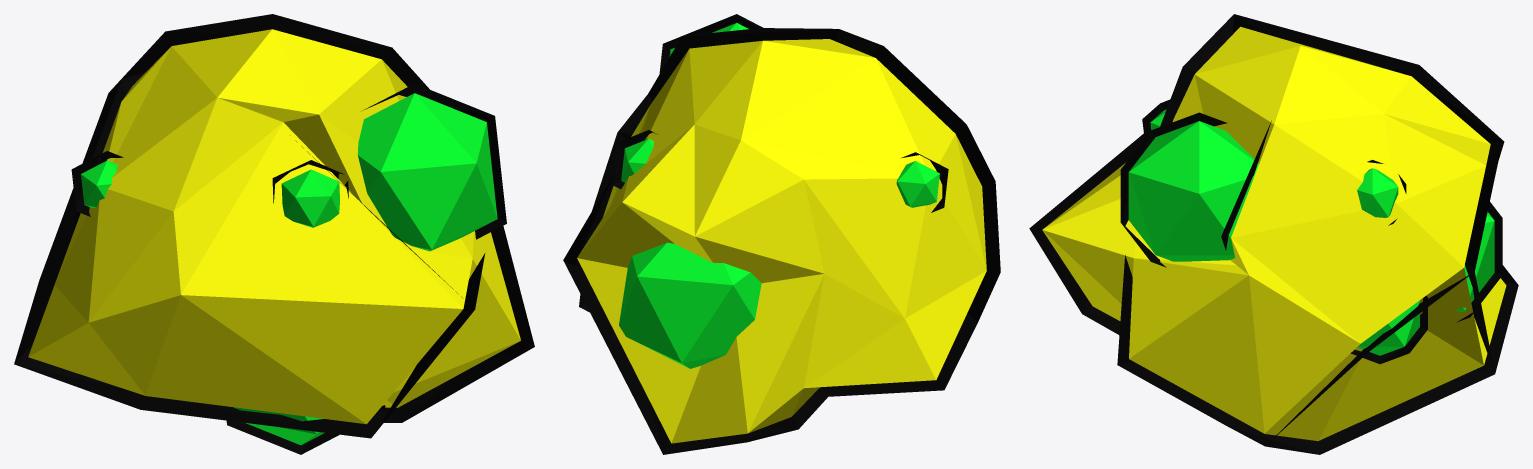
The model's file is uran.fbx.
3 views of the same model, side by side, from view 1: azimuth 30°, elevation 25°; view 2: azimuth 150°, elevation 25°; view 3: azimuth 270°, elevation 25° (orthographic). The views are drawn at different scales.
Visible parts, largest first — view 1: Icosphere, Icosphere.002, Icosphere.003, Icosphere.004; view 2: Icosphere, Icosphere.003, Icosphere.002, Icosphere.004; view 3: Icosphere, Icosphere.003, Icosphere.002, Icosphere.004.
Boxes of the visible parts, x1,y1,x2,y2 form: Icosphere: (28, 29, 520, 424); Icosphere.002: (81, 93, 497, 445); Icosphere.003: (14, 14, 534, 438); Icosphere.004: (71, 83, 506, 454); Icosphere: (577, 39, 986, 443); Icosphere.003: (563, 28, 1000, 454); Icosphere.002: (619, 23, 939, 368); Icosphere.004: (579, 14, 948, 342); Icosphere: (1042, 26, 1506, 440); Icosphere.003: (1029, 14, 1518, 454); Icosphere.002: (1128, 109, 1494, 355); Icosphere.004: (1120, 99, 1502, 364).
Bounding box in the file's own units: 211 × 210 × 242.
